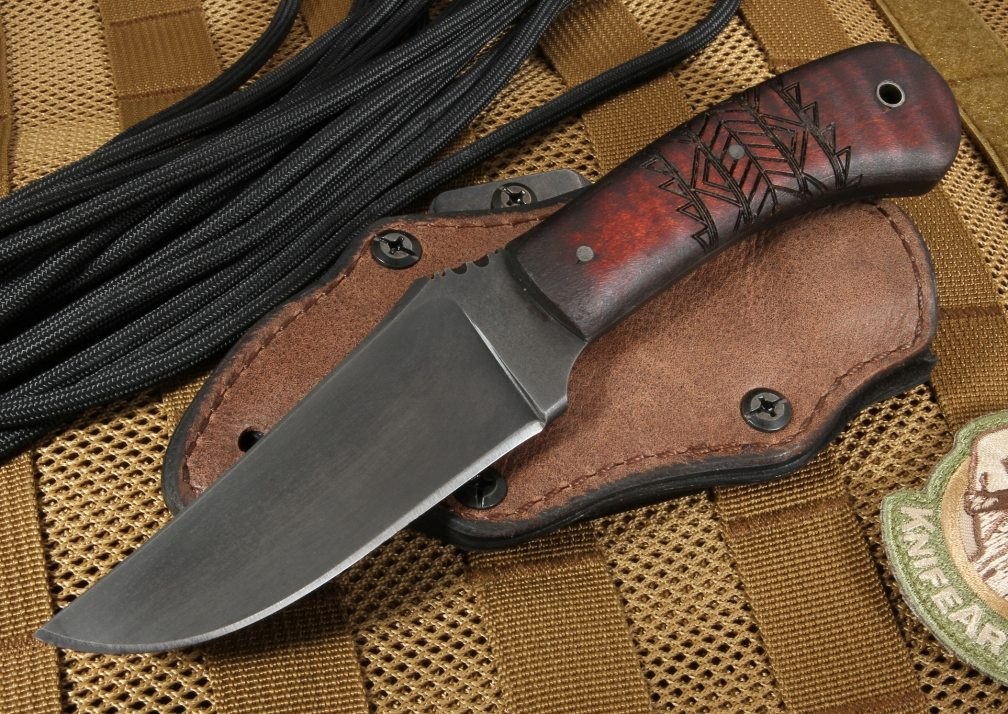knief: (60, 50, 954, 668)
